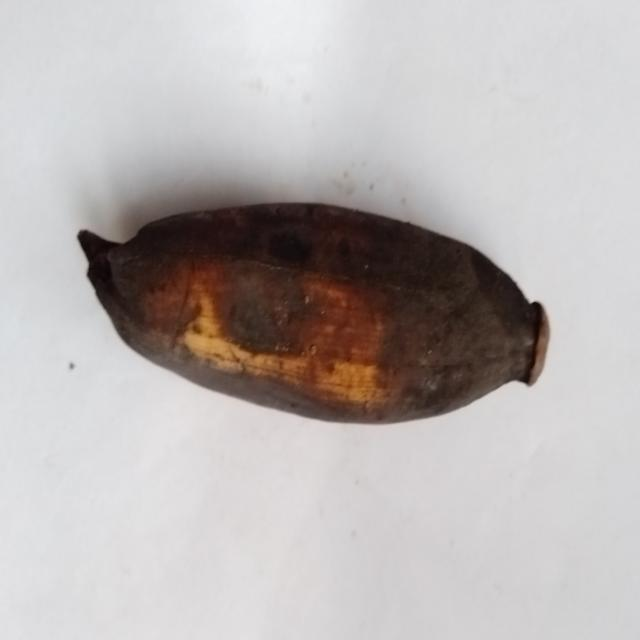banana: (79, 204, 548, 422)
